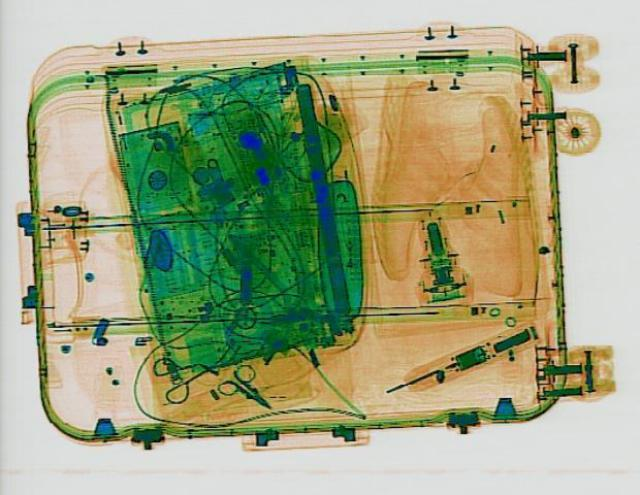Scissors: (208, 359, 288, 417)
